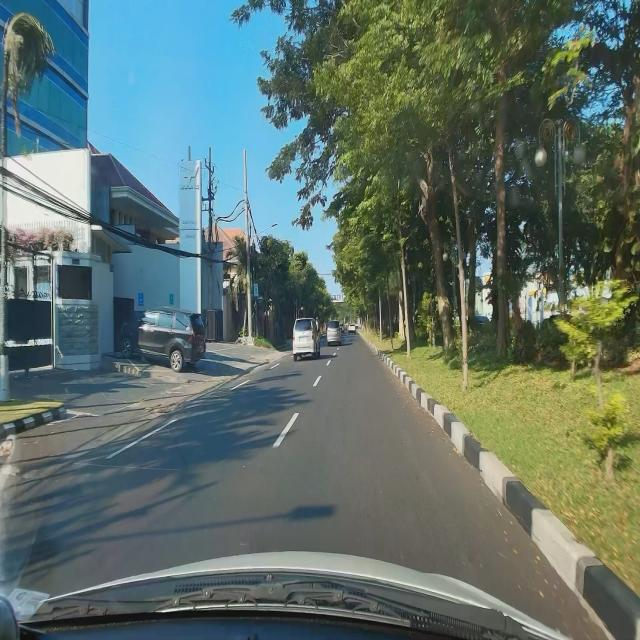car: (292, 316, 321, 361), (326, 319, 341, 348)
